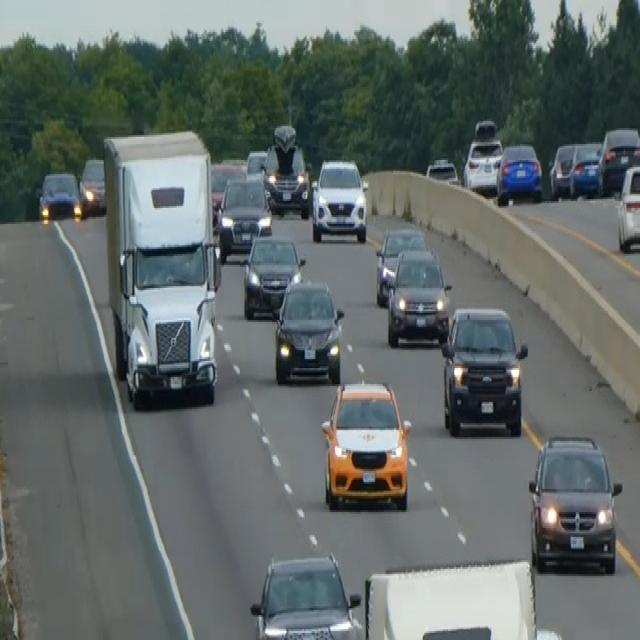car: (364, 556, 562, 638), (527, 430, 622, 574), (320, 377, 412, 510), (439, 302, 528, 438), (249, 550, 363, 638), (272, 276, 344, 384), (385, 245, 452, 347), (242, 231, 304, 320), (310, 154, 368, 242), (216, 172, 272, 262), (263, 123, 310, 217), (374, 222, 426, 306), (462, 117, 503, 194), (597, 124, 639, 196), (495, 140, 542, 204), (209, 158, 246, 226), (37, 169, 83, 222), (614, 162, 639, 252), (568, 139, 603, 197), (548, 140, 576, 198), (79, 155, 106, 215), (425, 155, 458, 185), (245, 148, 267, 178)
lorry: (101, 126, 222, 409)
